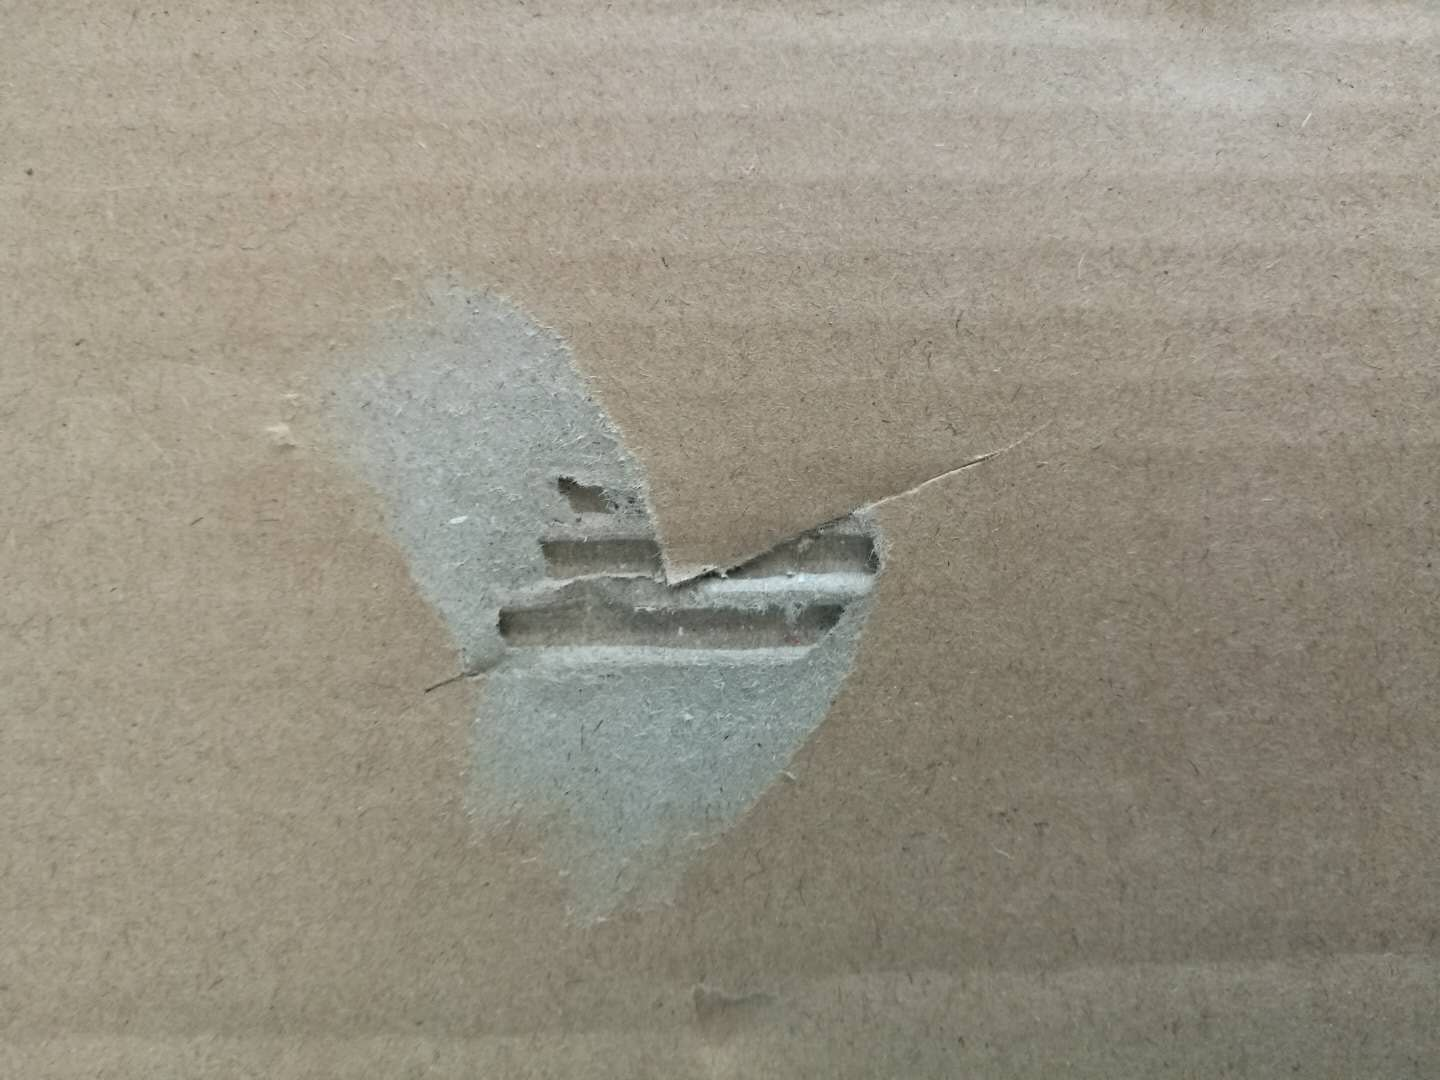defect: (236, 251, 1075, 1046)
